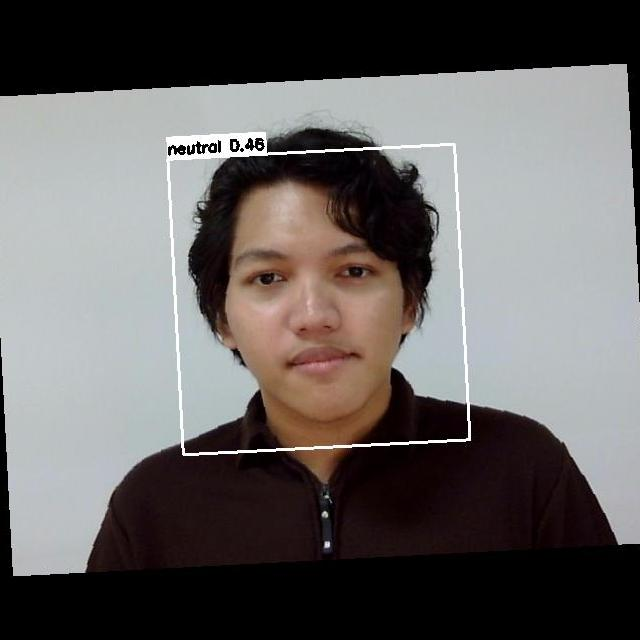Natural: (225, 236, 397, 388)
